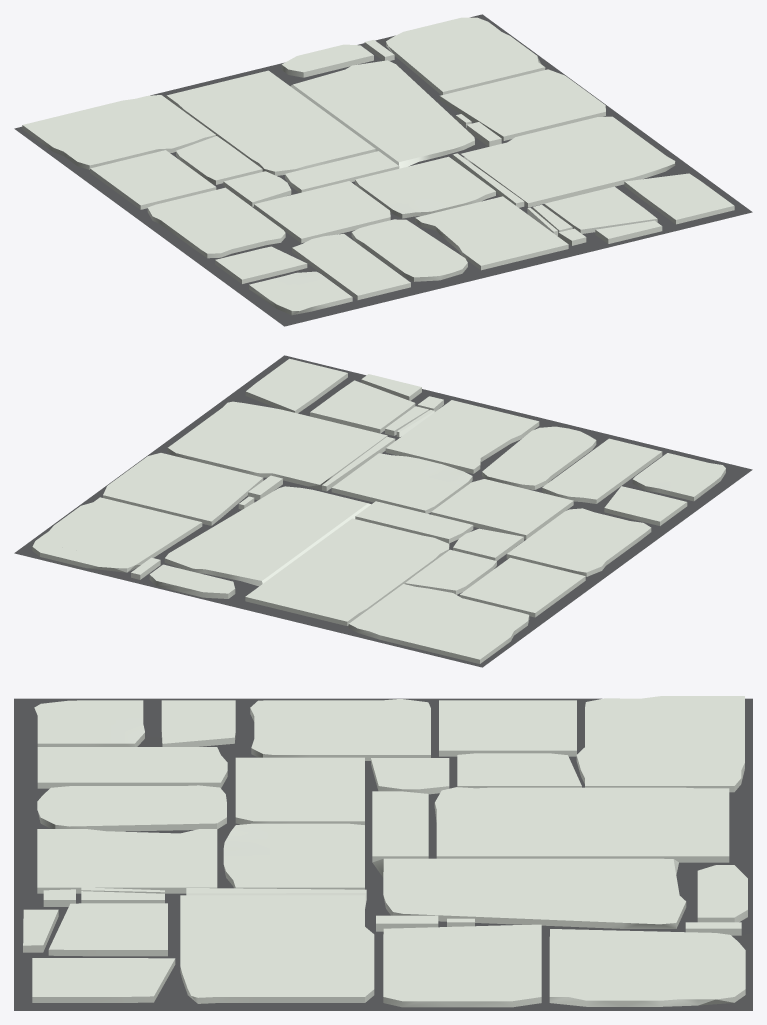
File: floor.fbx
3 views of the same model, one above another, from view 1: azimuth 30°, elevation 25°; view 2: azimuth 150°, elevation 25°; view 3: azimuth 270°, elevation 25° (orthographic). The views are drawn at different scales.
Parts seen in each view (by area): view 1: pCube10; view 2: pCube10; view 3: pCube10.
Boxes of the visible parts, x1=… form: pCube10: x1=14, y1=14, x2=752, y2=326; pCube10: x1=14, y1=355, x2=752, y2=667; pCube10: x1=14, y1=696, x2=752, y2=1010.
Size of the model in its own units: 50 by 0.6385 by 50.
1 material, 1 textured.
